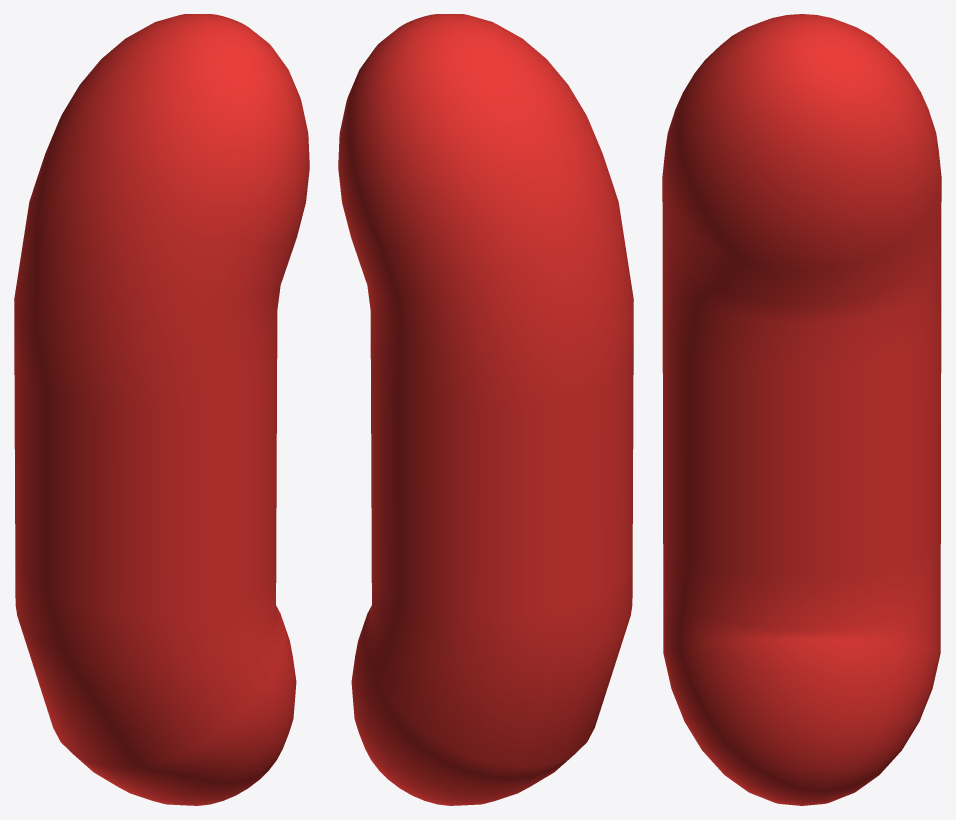
Rendered from ChorizoMATERIALES.fbx.
3 renders of one model, left to right at view 1: azimuth 30°, elevation 25°; view 2: azimuth 150°, elevation 25°; view 3: azimuth 270°, elevation 25°, orthographic.
Parts seen in each view (by area): view 1: Esfera; view 2: Esfera; view 3: Esfera.
Part boxes in pixels (x1,y1,x2,y2): Esfera: [14, 14, 309, 805]; Esfera: [338, 14, 633, 805]; Esfera: [662, 14, 941, 805].
Bounding box in the file's own units: 337 × 964 × 314.
